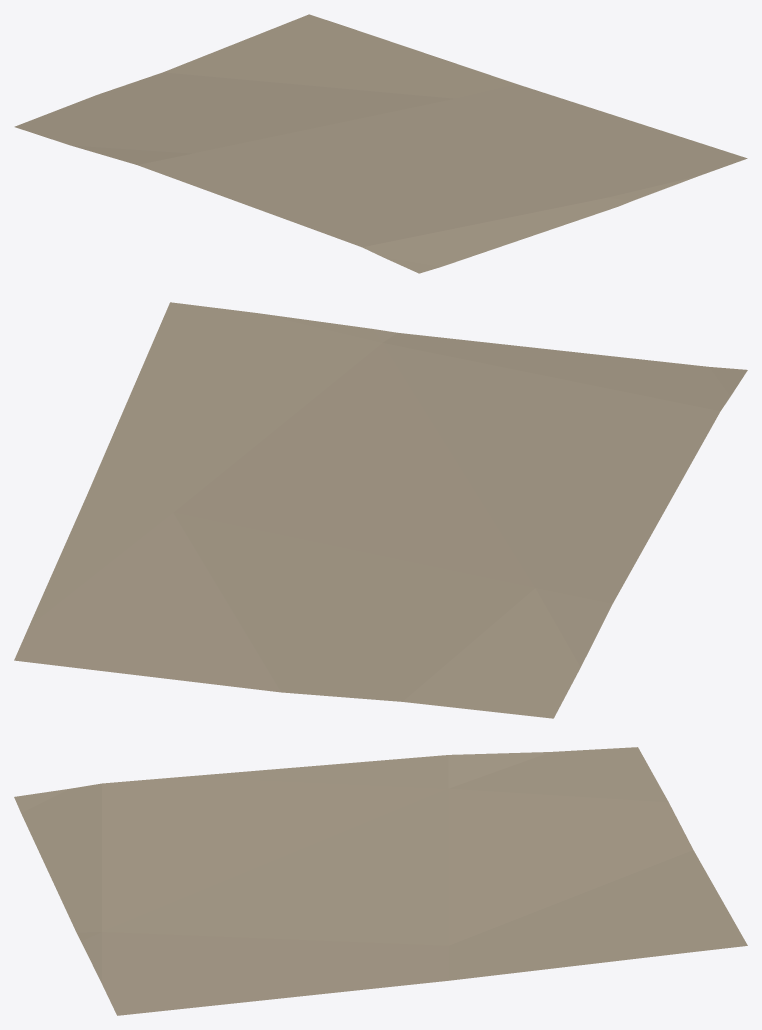
Rendered from farm_17_4_soil.glb.
The picture shows the model from 3 angles, top to bottom: view 1: azimuth 30°, elevation 25°; view 2: azimuth 150°, elevation 25°; view 3: azimuth 270°, elevation 25°; orthographic projection. The views are drawn at different scales.
Visible parts, largest first — view 1: geometry_0; view 2: geometry_0; view 3: geometry_0.
Part boxes in pixels (x1,y1,x2,y2): geometry_0: (14,14,747,273); geometry_0: (14,302,747,718); geometry_0: (14,747,747,1015).
Size of the model in its own units: 154 by 8.71 by 169.
